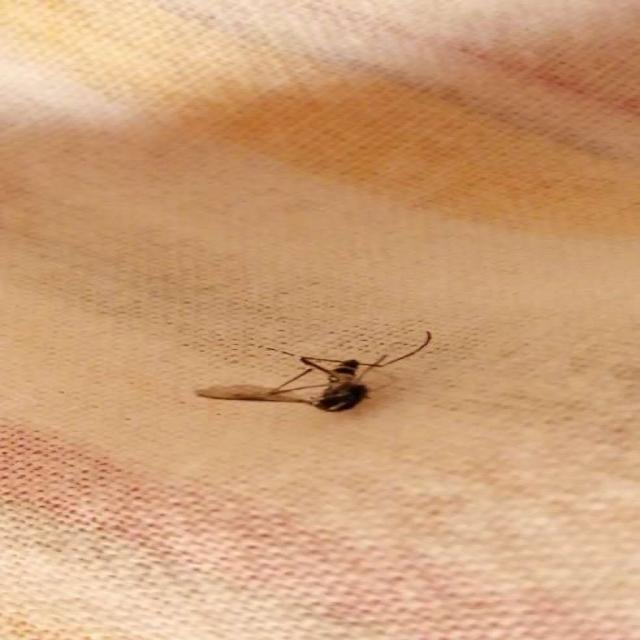albopictus: (198, 324, 440, 420)
